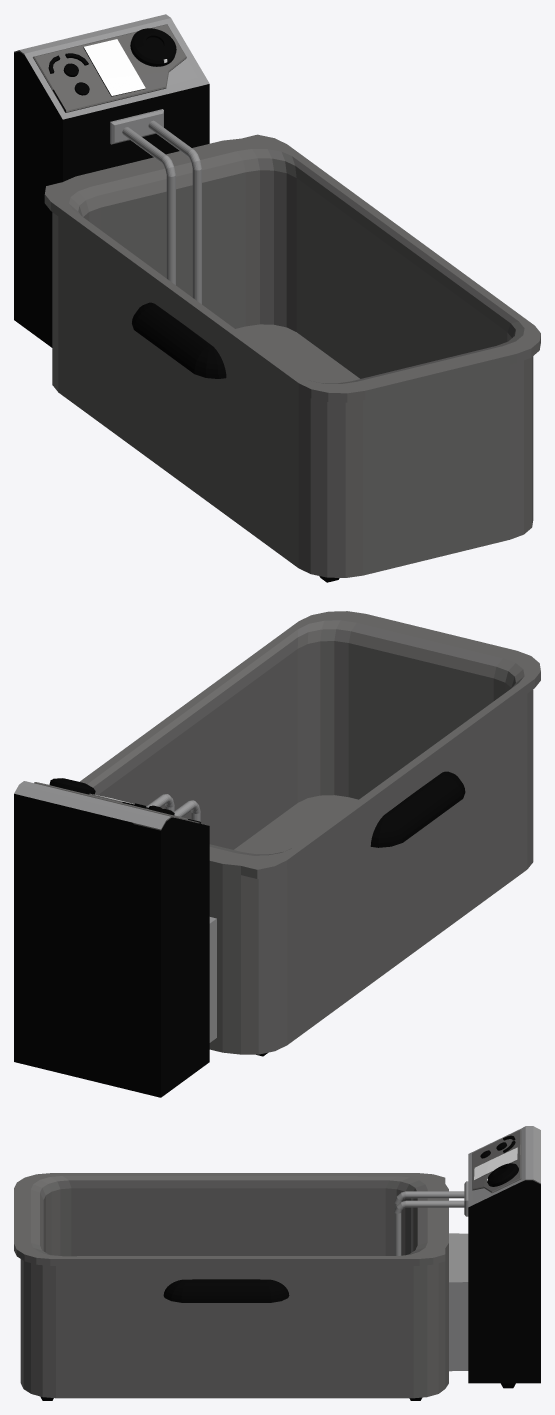
The model's file is _ryer_Outer.fbx.
3 views of the same model, one above another, from view 1: azimuth 30°, elevation 25°; view 2: azimuth 150°, elevation 25°; view 3: azimuth 270°, elevation 25° (orthographic). The views are drawn at different scales.
Parts seen in each view (by area): view 1: Cylinder.007; view 2: Cylinder.007; view 3: Cylinder.007.
Boxes of the visible parts, x1,y1,x2,y2 form: Cylinder.007: (14, 14, 540, 582); Cylinder.007: (14, 611, 540, 1097); Cylinder.007: (14, 1126, 540, 1400).
Size of the model in its own units: 34.97 by 35.92 by 79.89.
